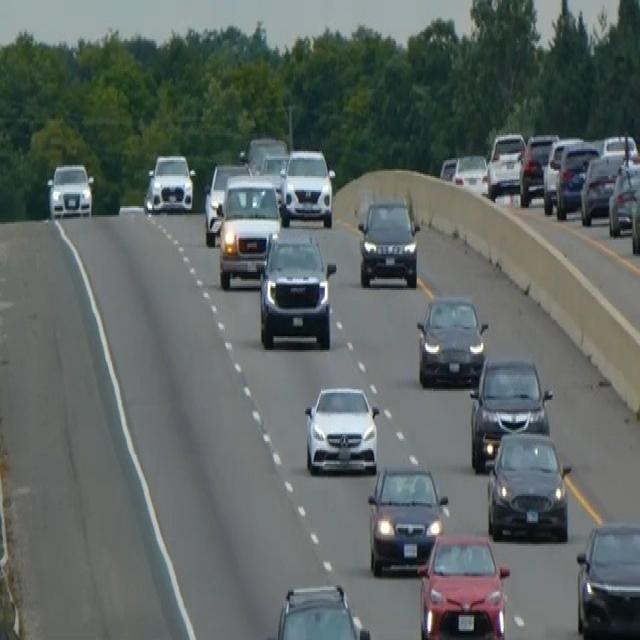car: (417, 530, 510, 638), (468, 352, 552, 471), (486, 428, 571, 542), (366, 462, 448, 576), (574, 518, 639, 638), (303, 382, 380, 477), (415, 292, 488, 388), (264, 580, 373, 638), (280, 146, 335, 228), (203, 160, 252, 245), (555, 140, 600, 218), (579, 149, 624, 226), (542, 135, 583, 213), (144, 151, 195, 213), (518, 132, 558, 204), (486, 130, 526, 199), (47, 160, 93, 219), (608, 158, 639, 236), (240, 134, 288, 174), (257, 151, 289, 206), (451, 151, 488, 196), (599, 132, 639, 162), (630, 172, 639, 256), (439, 155, 457, 181)
jeep: (256, 226, 337, 352), (356, 194, 420, 288)
minivan: (217, 174, 282, 288)
